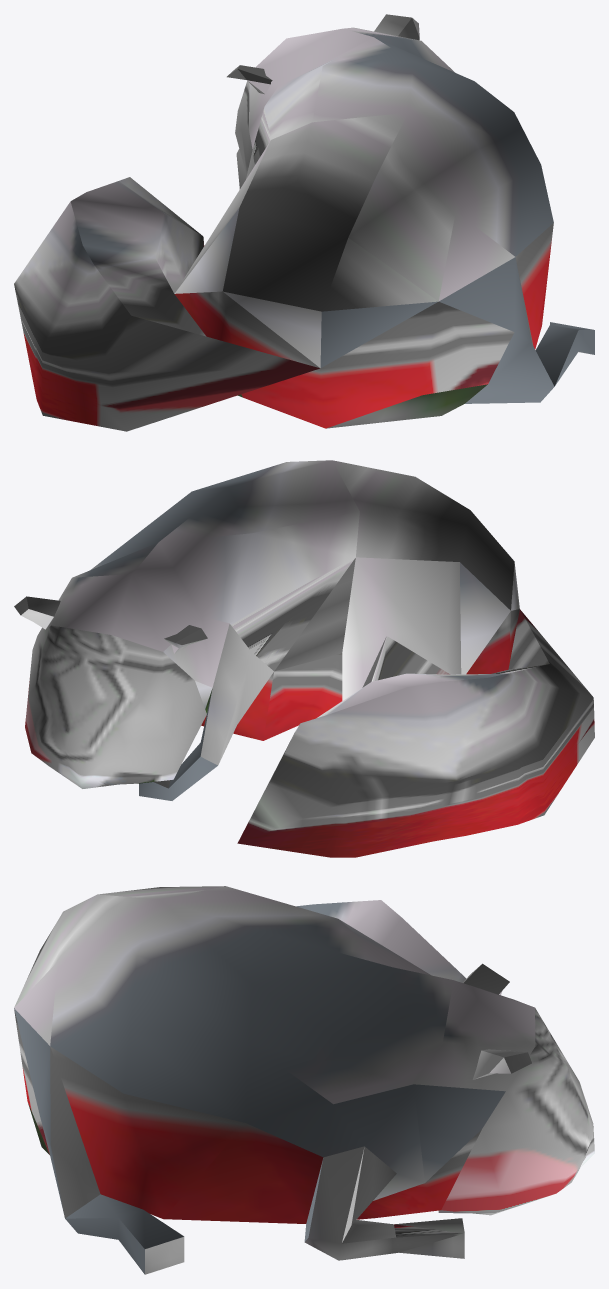
File: momo.ico.obj
3 renders of one model, top to bottom at view 1: azimuth 30°, elevation 25°; view 2: azimuth 150°, elevation 25°; view 3: azimuth 270°, elevation 25°, orthographic. The views are drawn at different scales.
Size of the model in its own units: 3.08 by 1.72 by 3.07.
